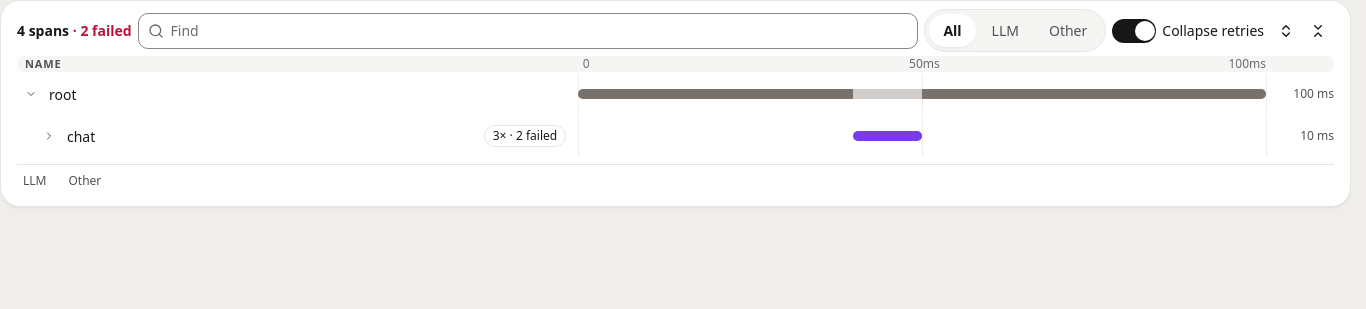
Test: SpanWaterfall toolbar › collapses retries into one row and shows the attempts when switched off
Check: the heading reads "4 spans · 2 failed", box [17,20,132,41]
Click the switch named "Collapse retries" at (1134, 30), box [1112,18,1156,42]
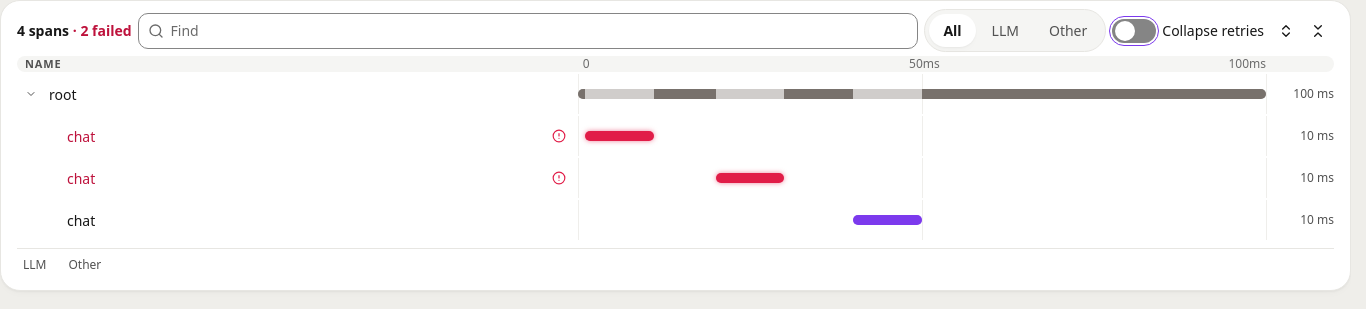
Check: the text "3 attempts · 2 failed" is not shown
Check: the list item with id "span-row-a1" is shown, box [17,116,1334,156]
